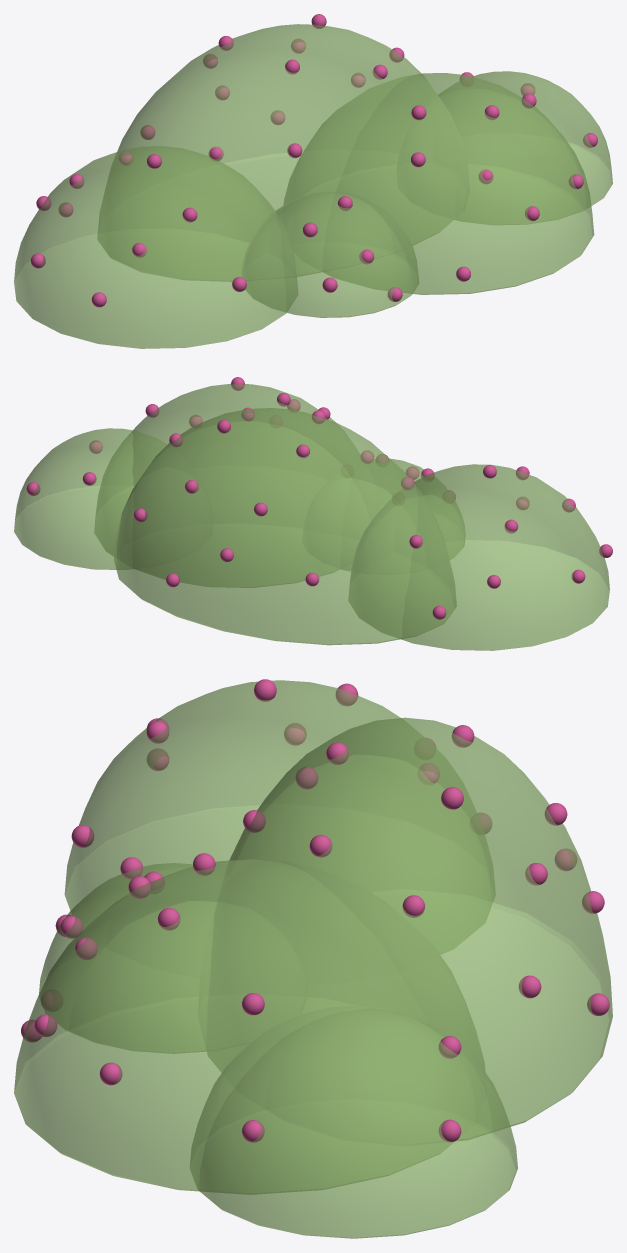
Rendered from berries_normal.fbx.
3 views of the same model, one above another, from view 1: azimuth 30°, elevation 25°; view 2: azimuth 150°, elevation 25°; view 3: azimuth 270°, elevation 25° (orthographic). The views are drawn at different scales.
Visible parts, largest first — view 1: pSphere9, pSphere11, pSphere8, pSphere12, pSphere10; view 2: pSphere9, pSphere11, pSphere8, pSphere12, pSphere10; view 3: pSphere11, pSphere9, pSphere8, pSphere12, pSphere10.
Part boxes in pixels (x1=…): pSphere9: x1=97, y1=24, x2=469, y2=281; pSphere11: x1=283, y1=73, x2=594, y2=294; pSphere8: x1=14, y1=146, x2=297, y2=348; pSphere12: x1=397, y1=71, x2=612, y2=224; pSphere10: x1=242, y1=192, x2=418, y2=317; pSphere9: x1=114, y1=408, x2=456, y2=645; pSphere11: x1=94, y1=383, x2=360, y2=587; pSphere8: x1=348, y1=464, x2=609, y2=650; pSphere12: x1=14, y1=428, x2=211, y2=569; pSphere10: x1=303, y1=458, x2=464, y2=571; pSphere11: x1=14, y1=859, x2=485, y2=1194; pSphere9: x1=198, y1=717, x2=612, y2=1142; pSphere8: x1=64, y1=680, x2=494, y2=954; pSphere12: x1=190, y1=1006, x2=517, y2=1238; pSphere10: x1=39, y1=863, x2=306, y2=1053.
Size of the model in its own units: 94.44 by 27.77 by 54.97.
